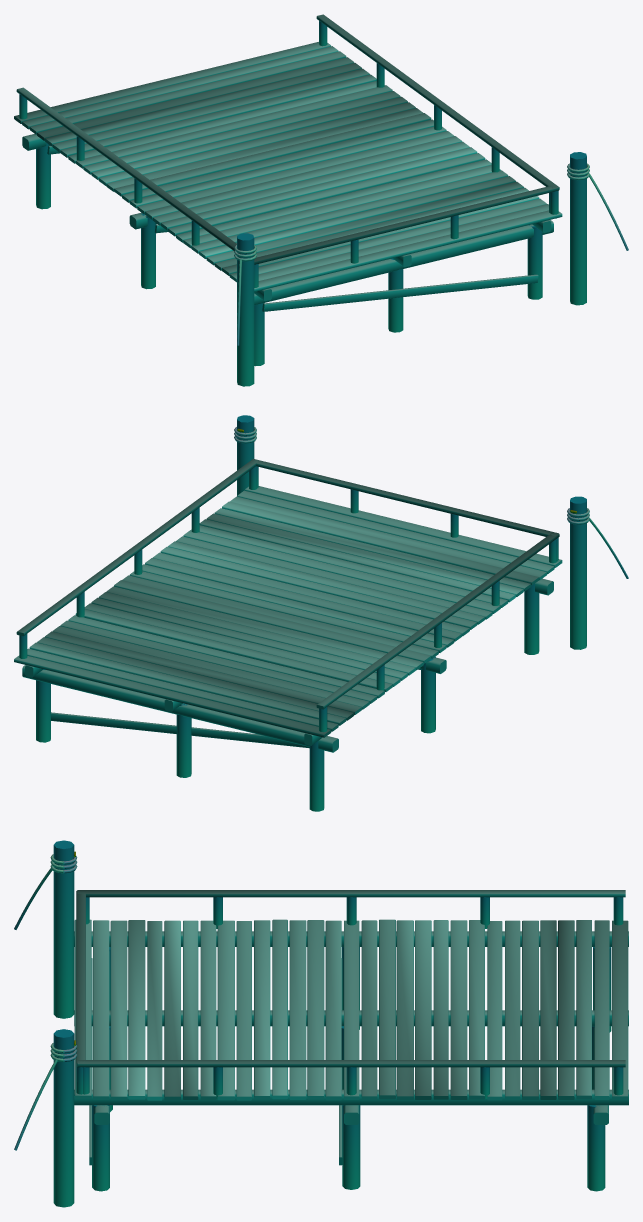
Rendered from strand_landing.glb.
3 renders of one model, top to bottom at view 1: azimuth 30°, elevation 25°; view 2: azimuth 150°, elevation 25°; view 3: azimuth 270°, elevation 25°, orthographic. The views are drawn at different scales.
Visible parts, largest first — view 1: strand_landing; view 2: strand_landing; view 3: strand_landing.
Part boxes in pixels (left/top/right/bottom): strand_landing: left=14, top=14, right=628, bottom=386; strand_landing: left=14, top=415, right=628, bottom=811; strand_landing: left=14, top=840, right=628, bottom=1207.
Size of what is drawn, in the model's own units: 7.58 by 2.7 by 8.87.
